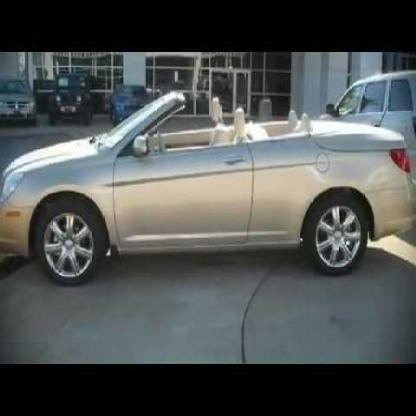Vehicle: (2, 90, 414, 288)
